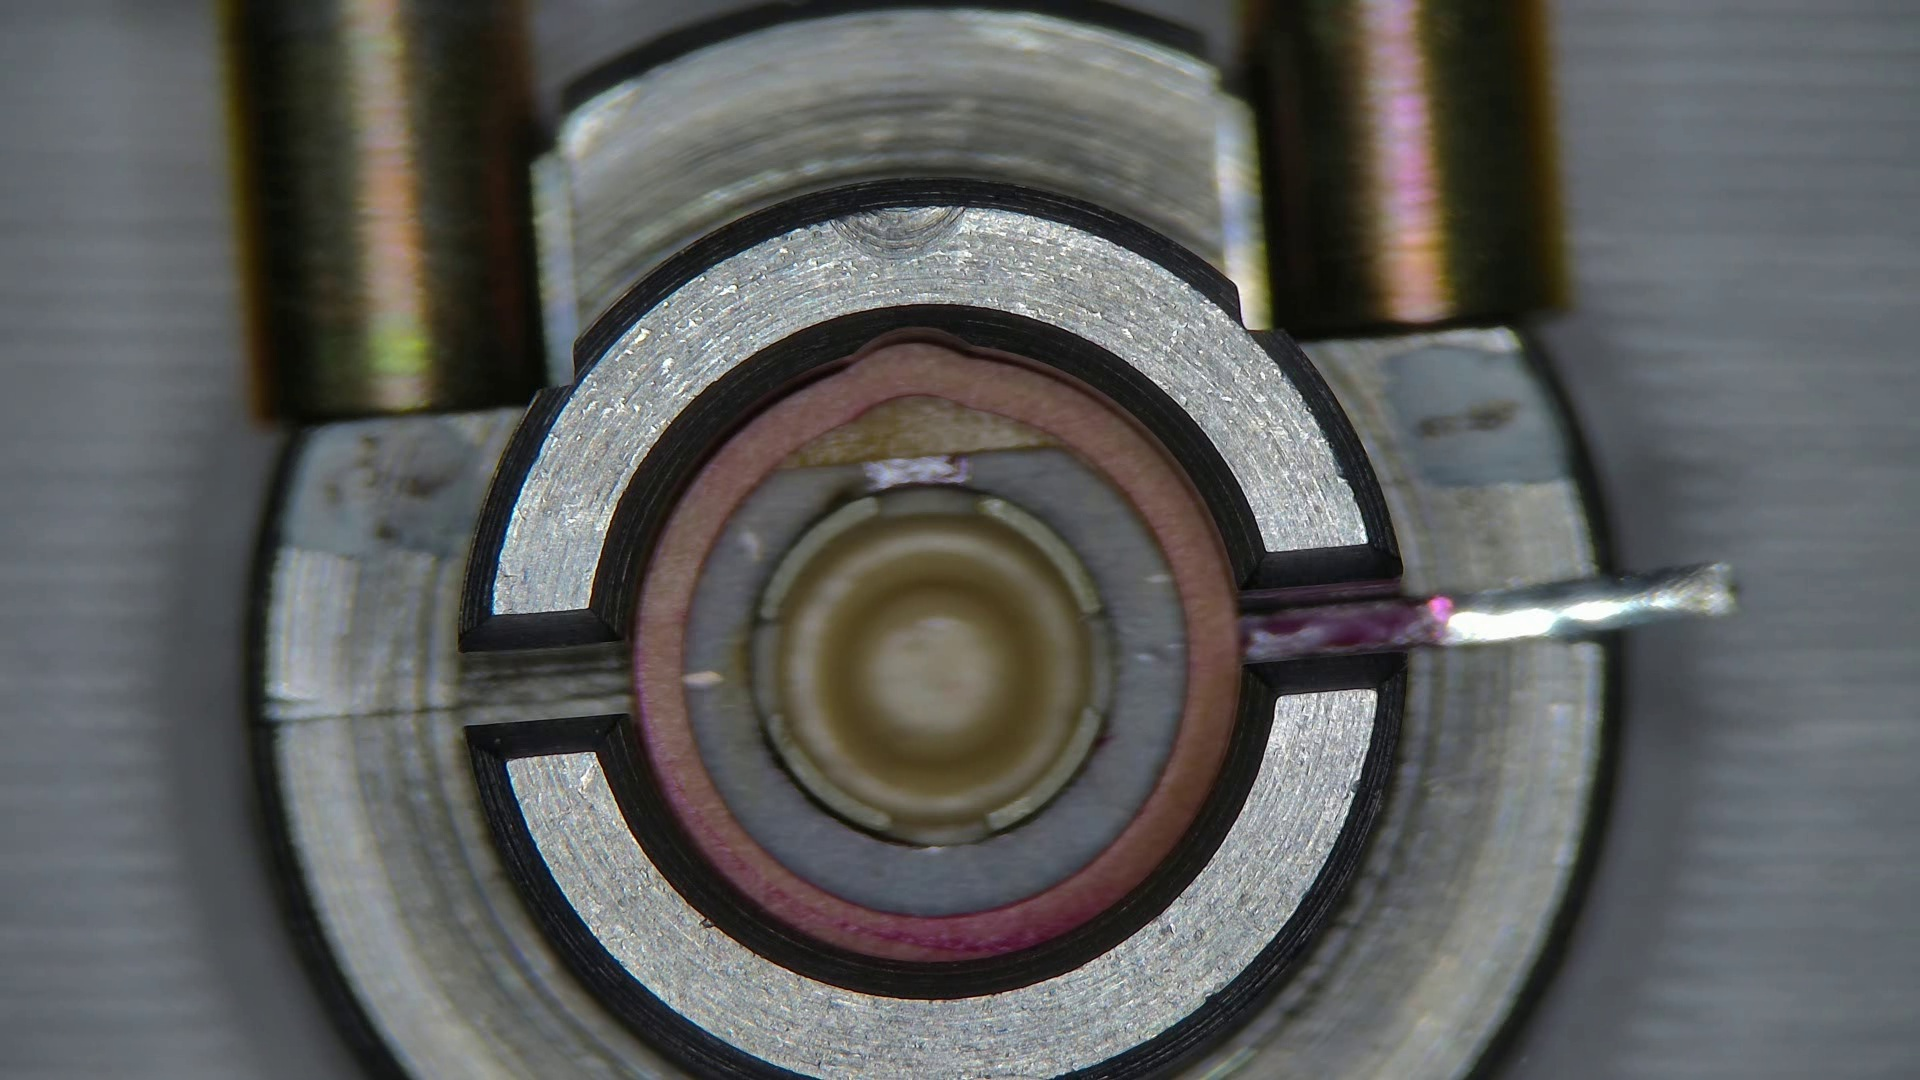GreyOring: (634, 342, 1241, 961)
YellowOring: (688, 451, 1185, 913)
redOring: (785, 397, 1060, 460)
